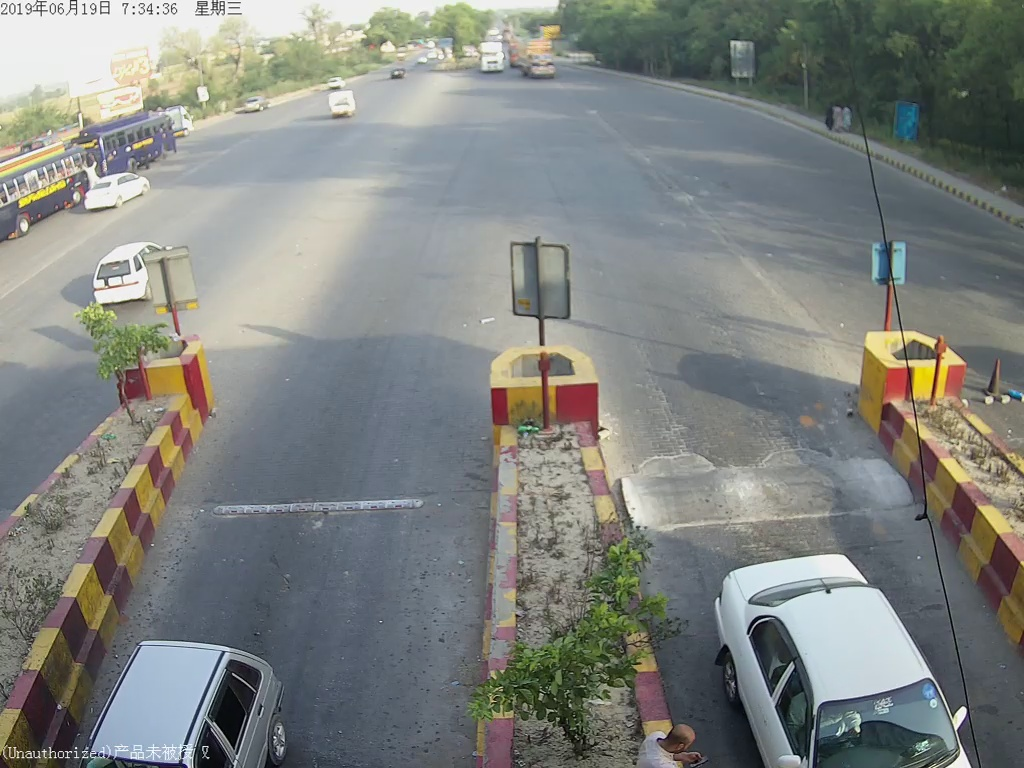Cat-1: (715, 574, 980, 763)
